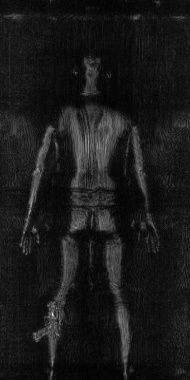gun: (34, 299, 63, 343)
